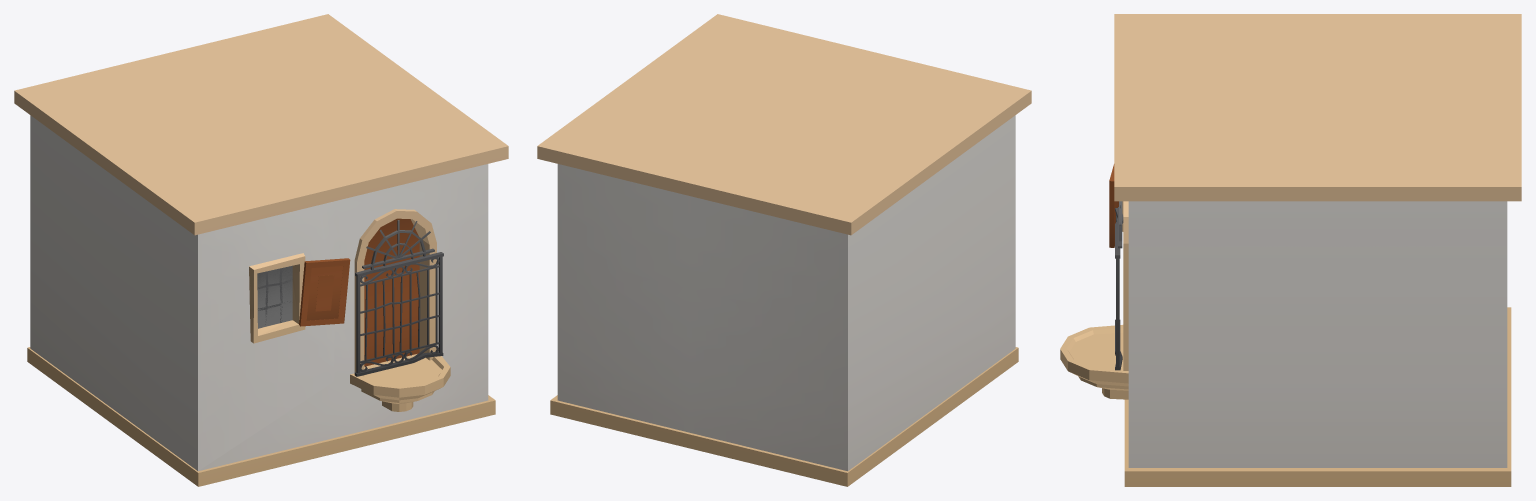
Rendered from Room 05.fbx.
3 views of the same model, side by side, from view 1: azimuth 30°, elevation 25°; view 2: azimuth 150°, elevation 25°; view 3: azimuth 270°, elevation 25° (orthographic). The views are drawn at different scales.
Parts seen in each view (by area): view 1: Room 05 high, Room 05, Room 05 low; view 2: Room 05 high, Room 05; view 3: Room 05 high, Room 05.
Part boxes in pixels (x1,y1,x2,y2): Room 05 high: [14, 14, 508, 486]; Room 05: [14, 24, 493, 484]; Room 05 low: [336, 165, 482, 366]; Room 05 high: [537, 14, 1031, 486]; Room 05: [537, 91, 1028, 486]; Room 05 high: [1060, 14, 1521, 486]; Room 05: [1060, 14, 1521, 486].
Size of the model in its own units: 4.06 by 3.33 by 4.57.
Materials: 1 (1 with a texture image).
